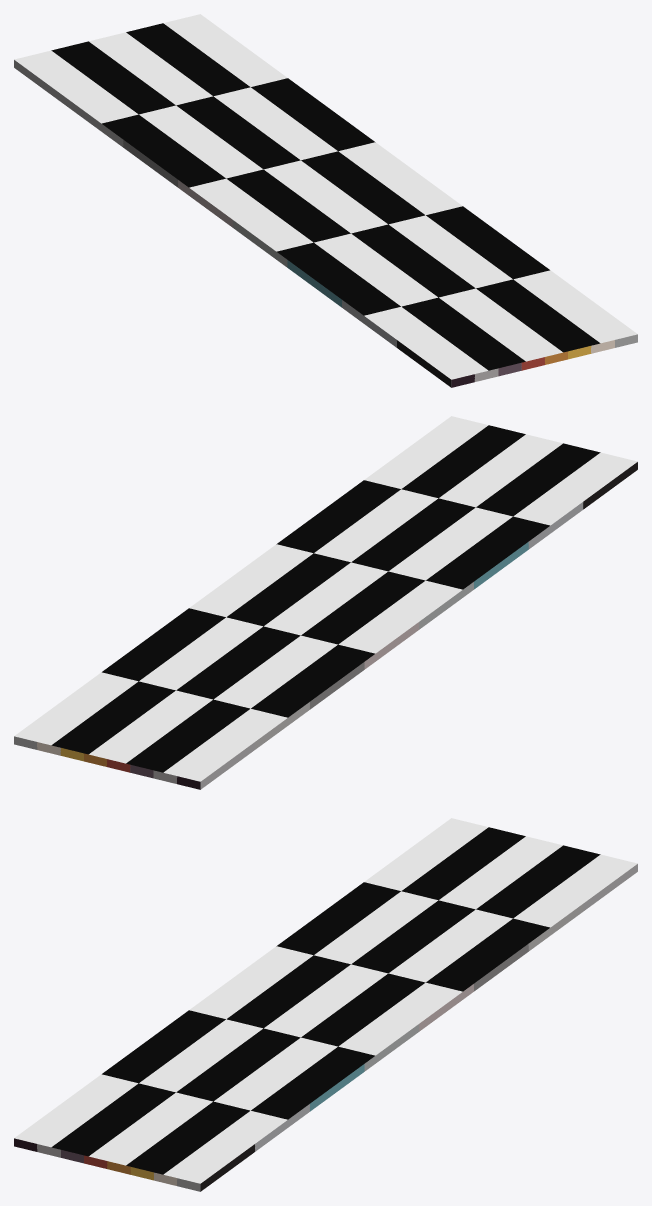
File: start point.fbx
3 views of the same model, one above another, from view 1: azimuth 30°, elevation 25°; view 2: azimuth 150°, elevation 25°; view 3: azimuth 330°, elevation 25° (orthographic).
Parts seen in each view (by area): view 1: Plane; view 2: Plane; view 3: Plane.
Part boxes in pixels (x1=…): Plane: x1=14, y1=14, x2=637, y2=387; Plane: x1=14, y1=416, x2=637, y2=789; Plane: x1=14, y1=818, x2=637, y2=1191.
Bounding box in the file's own units: 97.67 × 4.05 × 397.
